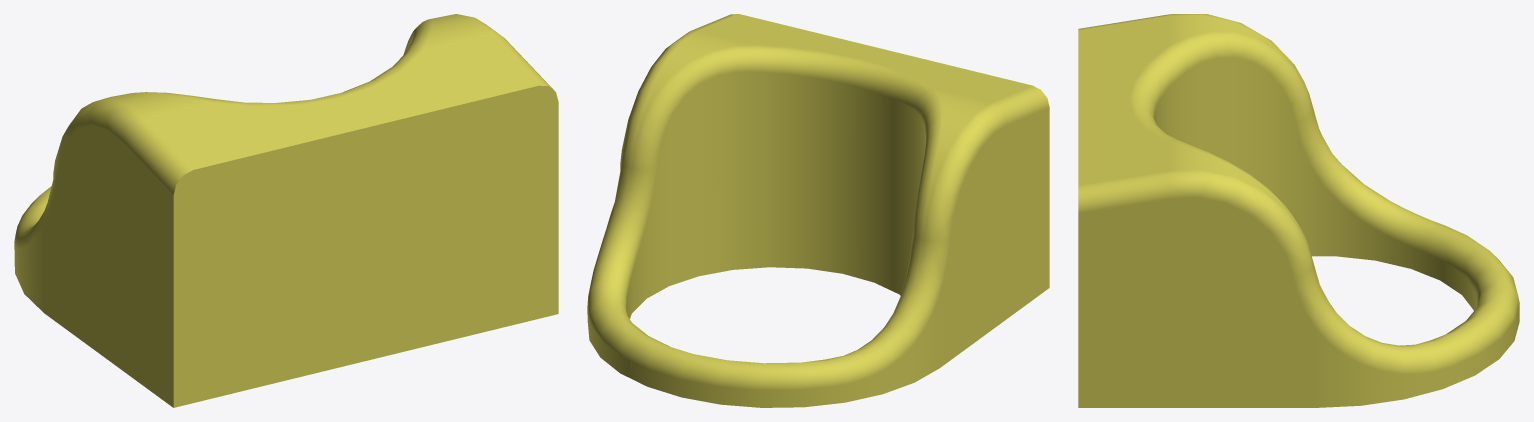
The model's file is Ending.fbx.
3 views of the same model, side by side, from view 1: azimuth 30°, elevation 25°; view 2: azimuth 150°, elevation 25°; view 3: azimuth 270°, elevation 25° (orthographic). The views are drawn at different scales.
Visible parts, largest first — view 1: RŤr-udlŤb simple; view 2: RŤr-udlŤb simple; view 3: RŤr-udlŤb simple.
Boxes of the visible parts, x1=… form: RŤr-udlŤb simple: x1=14, y1=14, x2=558, y2=407; RŤr-udlŤb simple: x1=587, y1=14, x2=1049, y2=407; RŤr-udlŤb simple: x1=1078, y1=14, x2=1519, y2=407.
Bounding box in the file's own units: 96.9 × 60.84 × 105.
